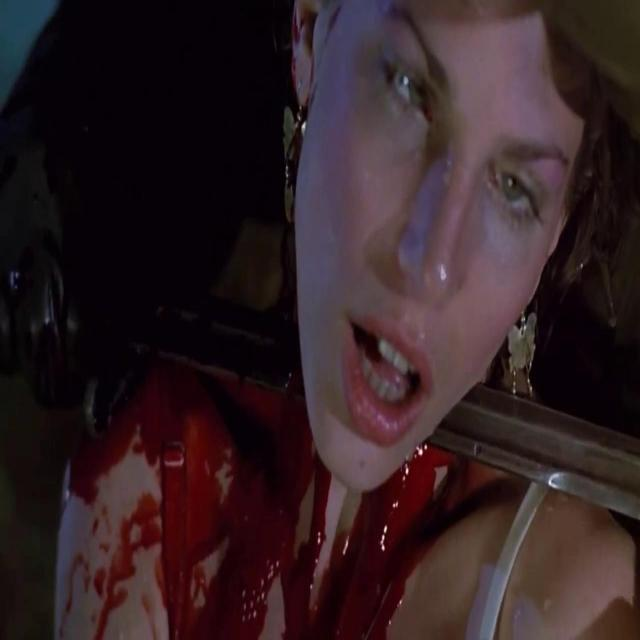flood: (145, 354, 469, 640)
